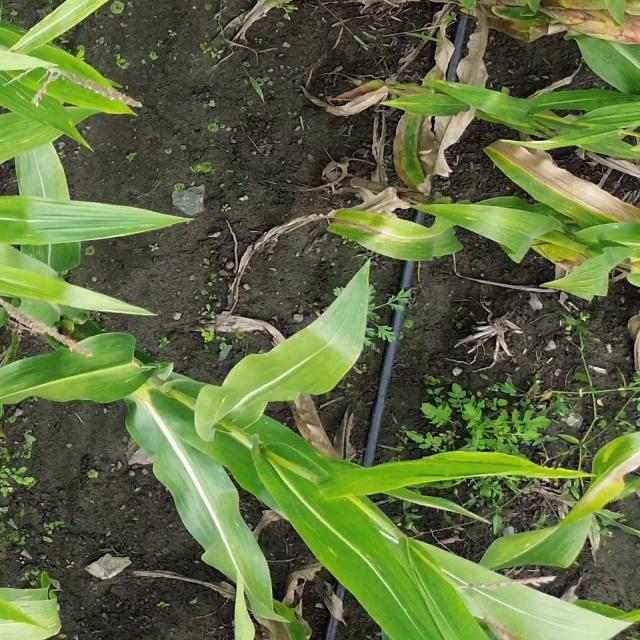northern-leaf-blight: (490, 131, 640, 239), (560, 444, 636, 543), (318, 203, 456, 257)
southern-leaf-blight: (253, 413, 374, 542)
